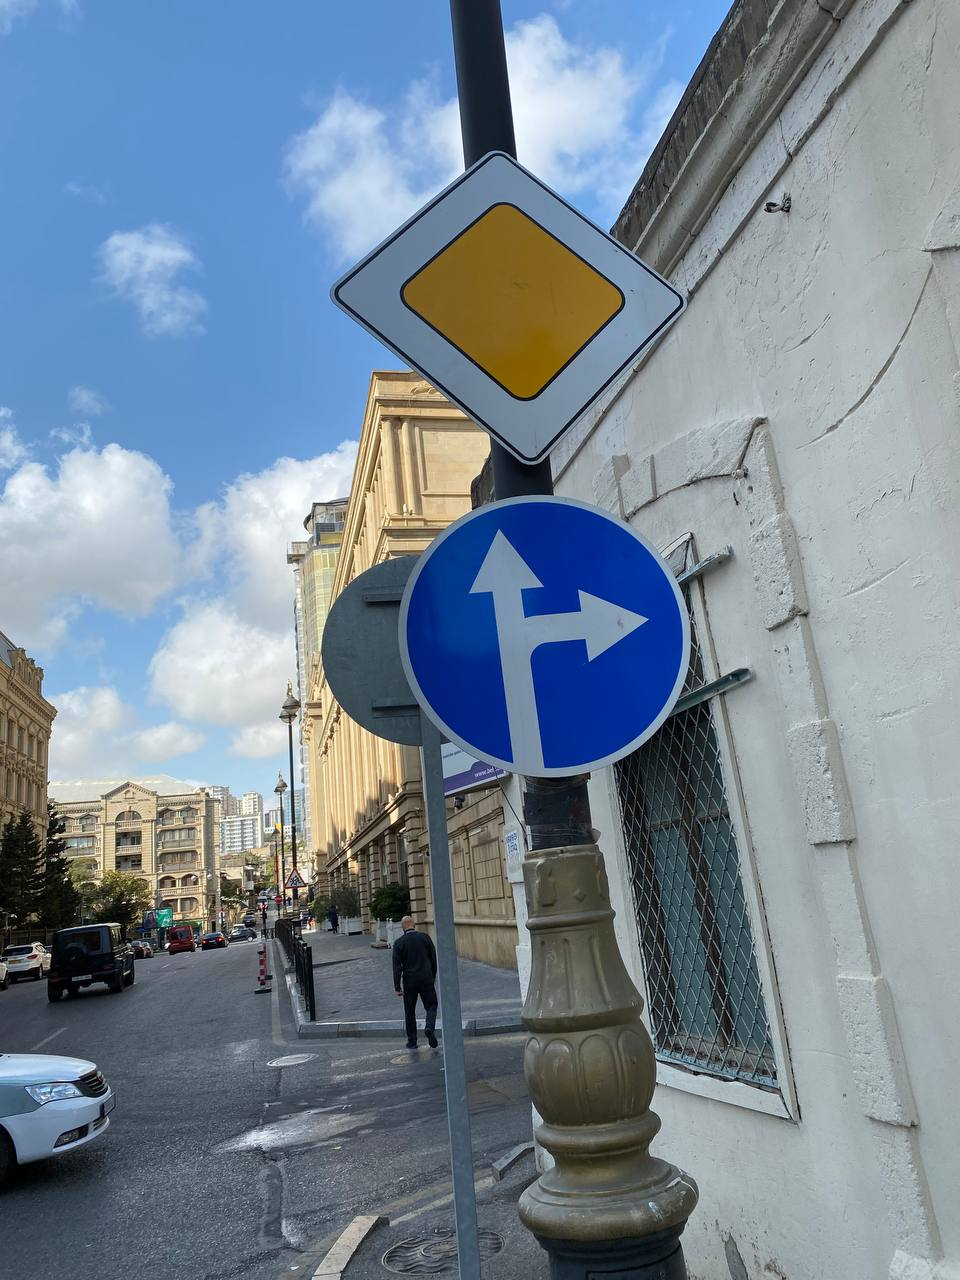Main Road: (328, 150, 686, 465)
Straight or Right: (398, 495, 690, 780)
